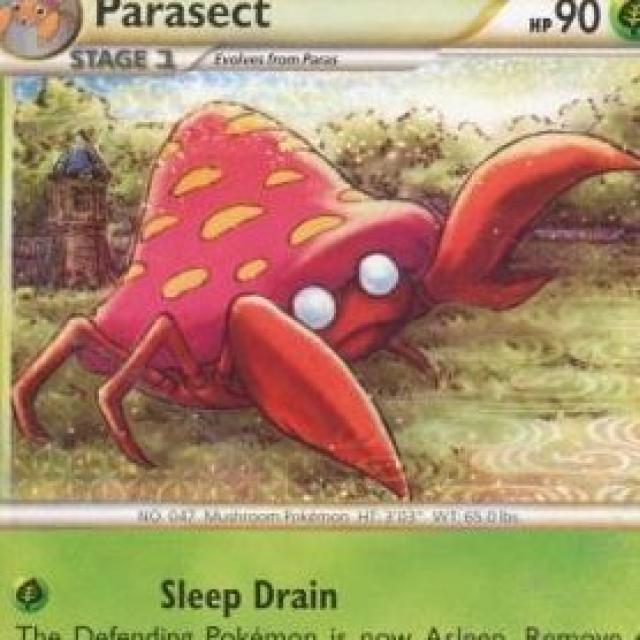Parasect: (52, 98, 640, 476)
